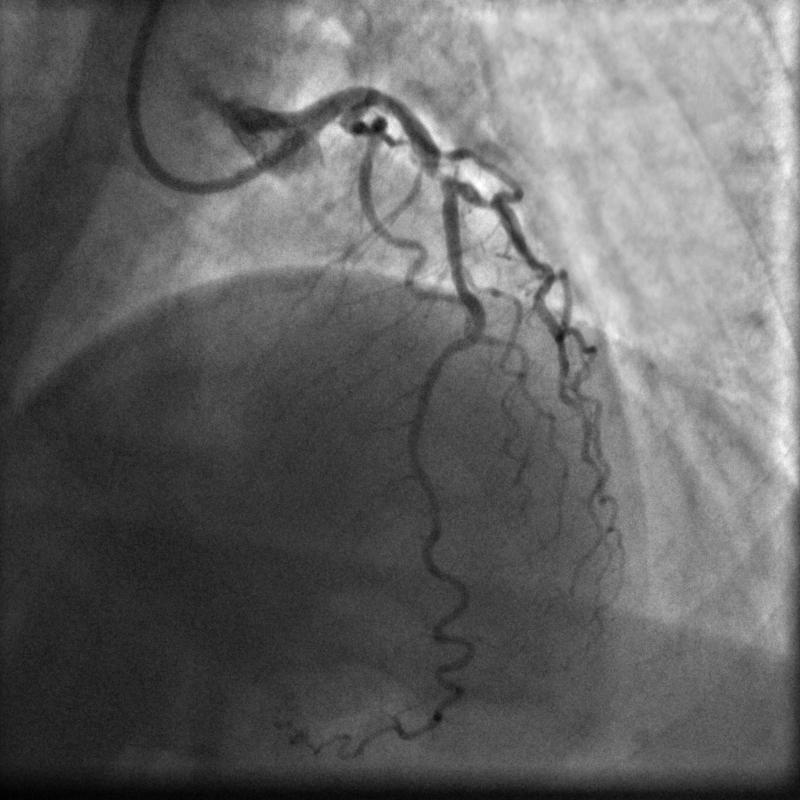Stenosis: (415, 158, 459, 186)
